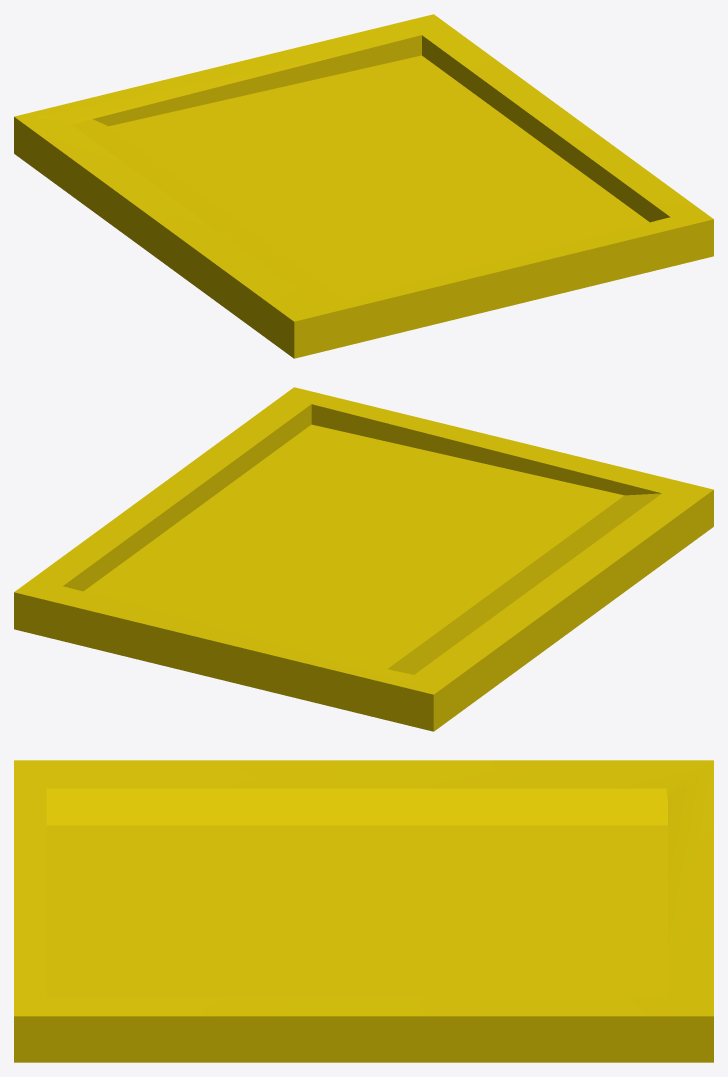
Rendered from decende.fbx.
3 renders of one model, top to bottom at view 1: azimuth 30°, elevation 25°; view 2: azimuth 150°, elevation 25°; view 3: azimuth 270°, elevation 25°, orthographic. The views are drawn at different scales.
Parts seen in each view (by area): view 1: Cube.017; view 2: Cube.017; view 3: Cube.017.
Boxes of the visible parts, x1=… form: Cube.017: x1=14, y1=14, x2=713, y2=358; Cube.017: x1=14, y1=387, x2=713, y2=731; Cube.017: x1=14, y1=760, x2=713, y2=1062.
Bounding box in the file's own units: 78.88 × 6.66 × 91.18.
